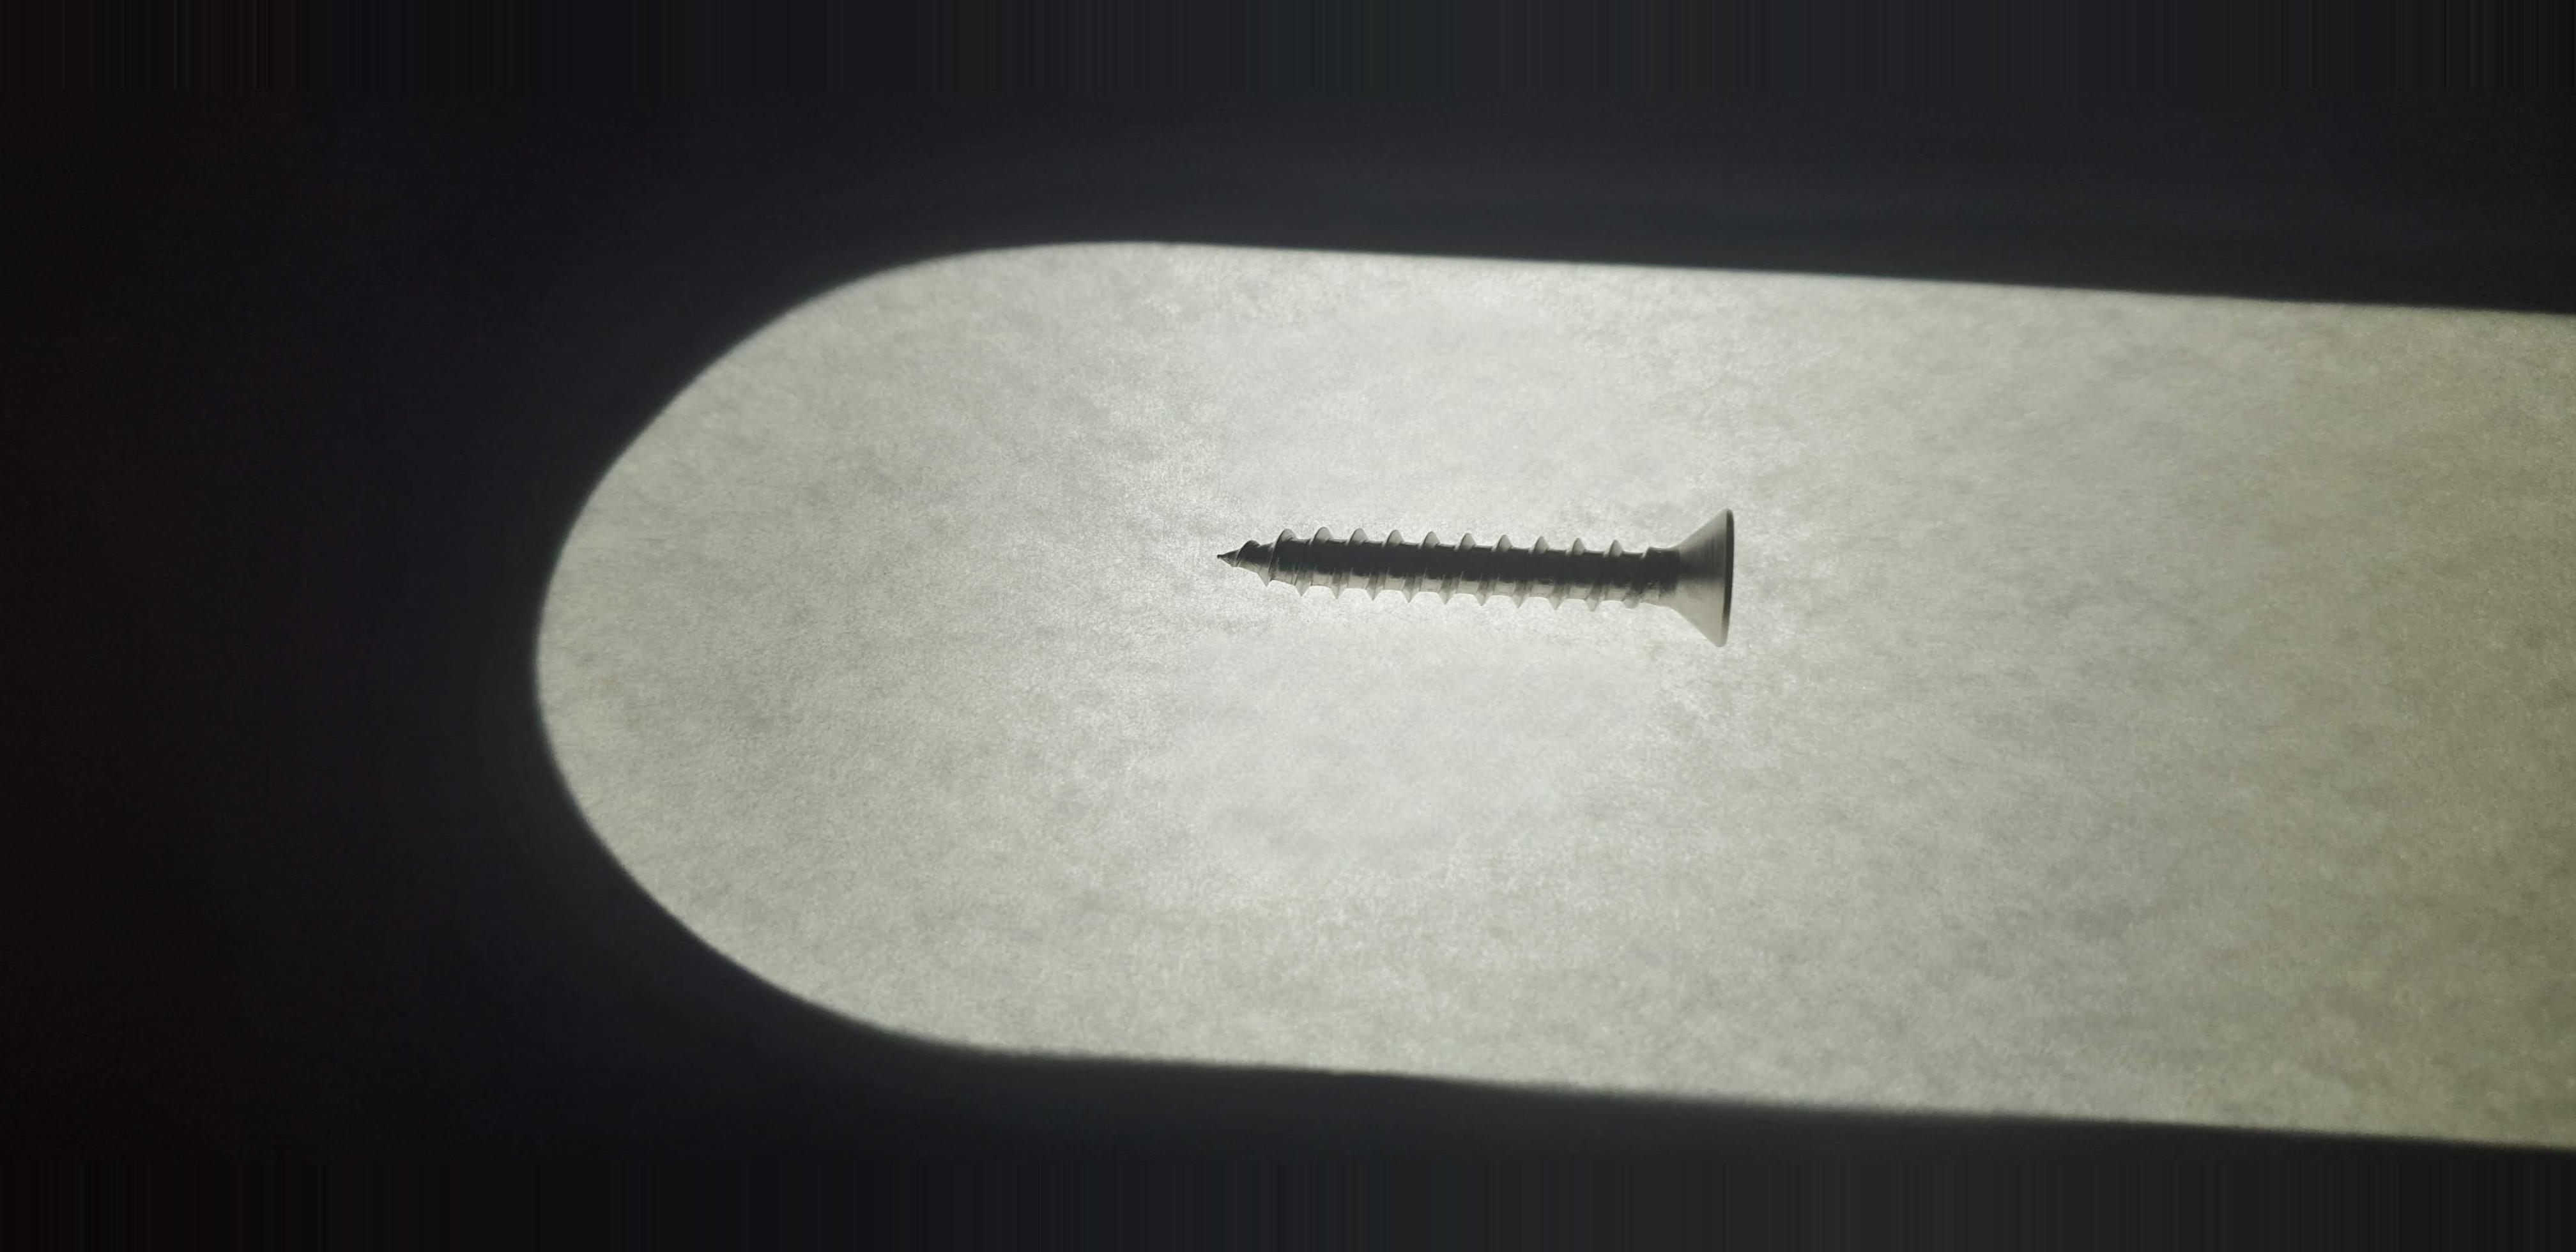S004: (1165, 449, 1820, 688)
